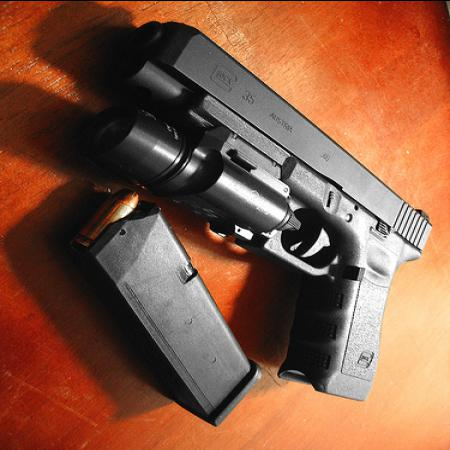Pistol: (78, 21, 436, 398)
